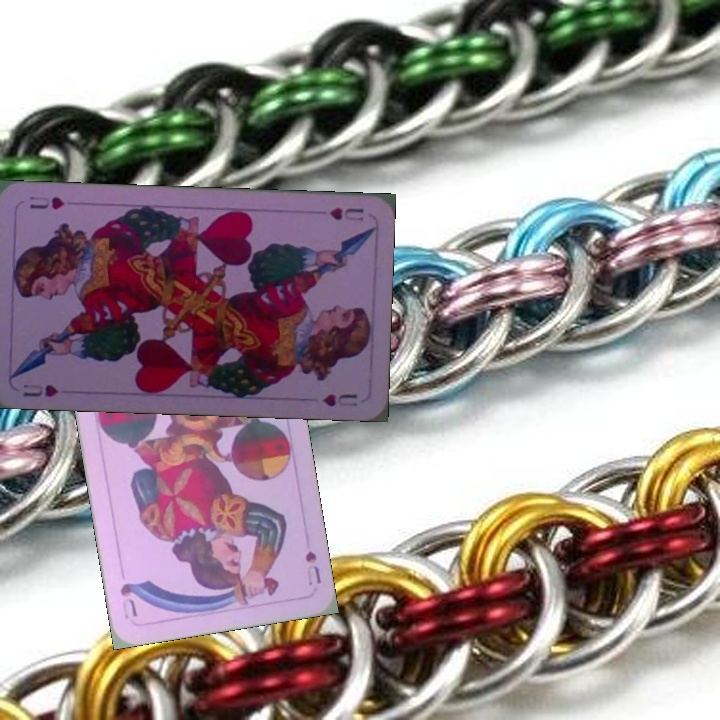HU: (19, 380, 61, 400), (326, 203, 366, 224)
SU: (301, 546, 324, 588)
